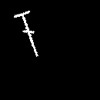double_crochet: (14, 11, 37, 55)
